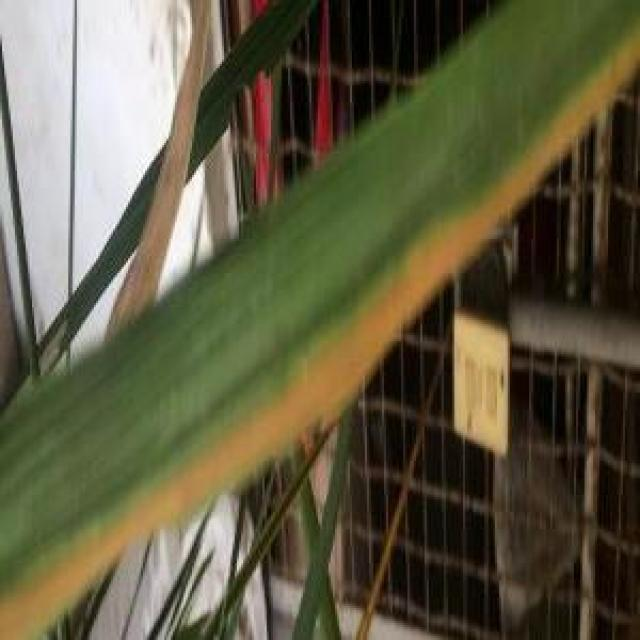leaf blight: (2, 406, 269, 630), (450, 26, 640, 262), (275, 222, 452, 431)
